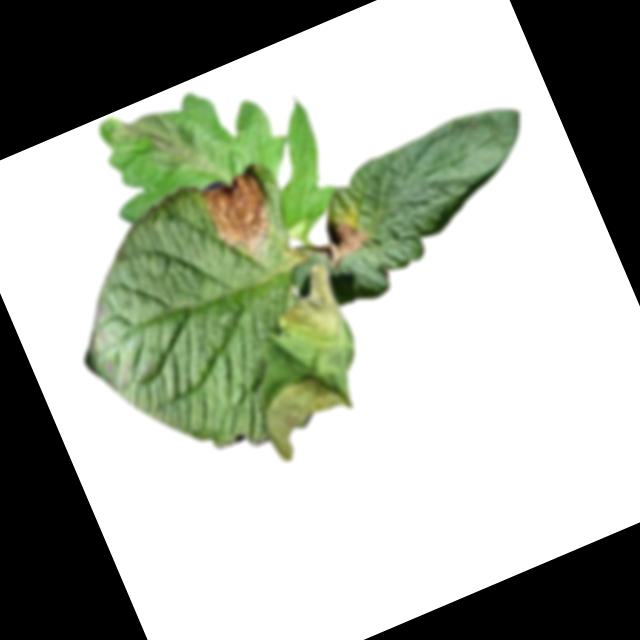Late_blight: (103, 89, 208, 199), (251, 364, 358, 466), (197, 162, 290, 267), (263, 259, 356, 361), (316, 213, 374, 269)
